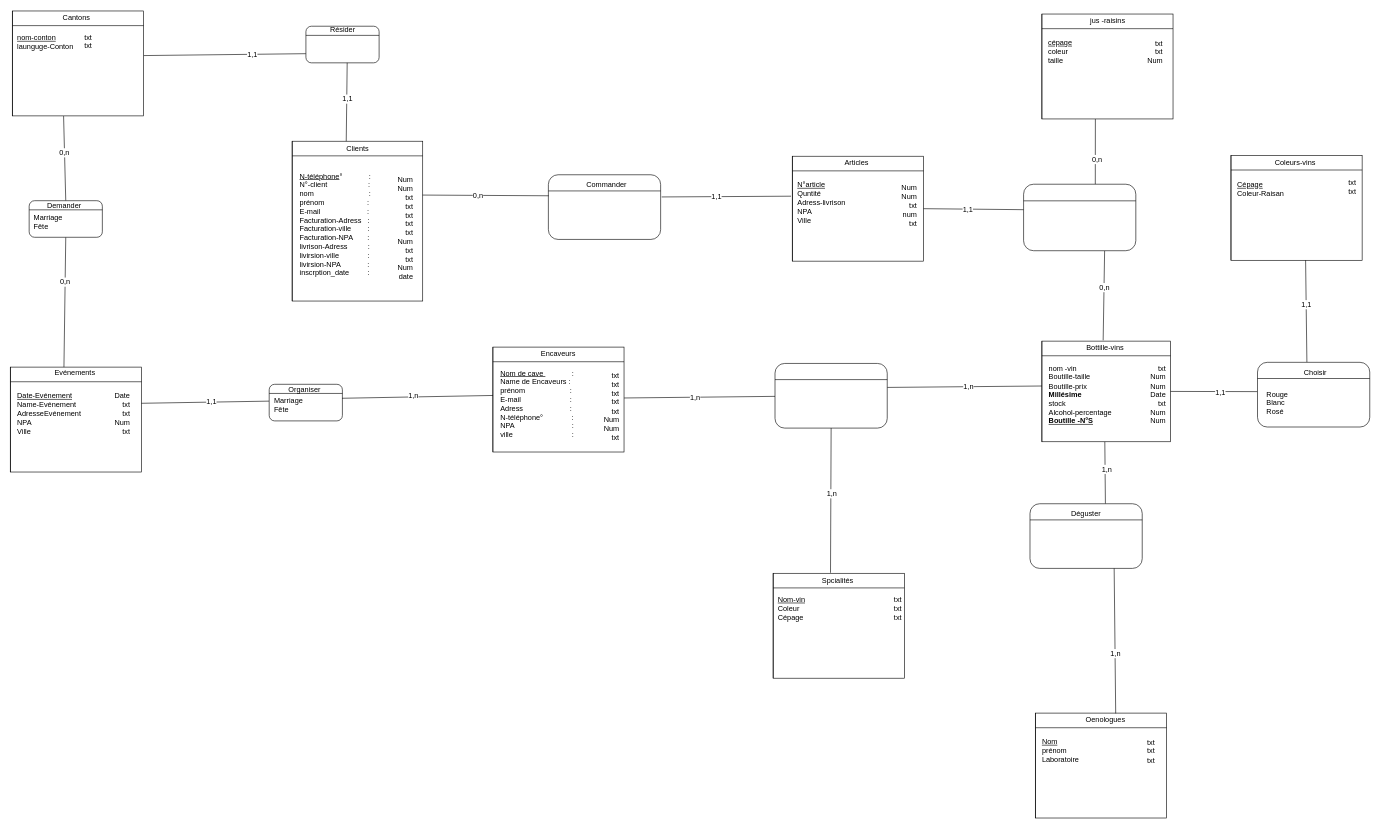
This 1382x828 diagram has some shape labels left out. The centre of each missing label's shape, as x and y in pixels:
"Contenir" belongs at point (1079, 217).
"Produire" belongs at point (830, 395).
